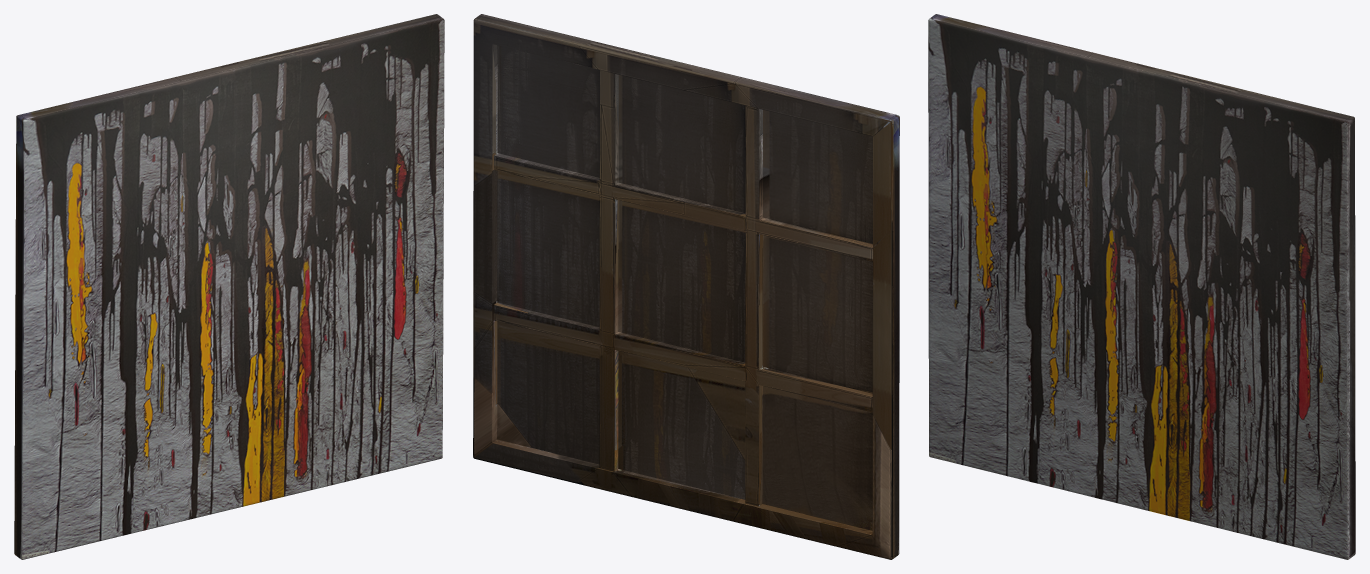
File: somepainting2.glb
The picture shows the model from 3 angles, left to right: view 1: azimuth 30°, elevation 25°; view 2: azimuth 150°, elevation 25°; view 3: azimuth 330°, elevation 25°; orthographic projection.
Bounding box in the file's own units: 196 × 196 × 7.54.
Materials: 1 (1 with a texture image).
